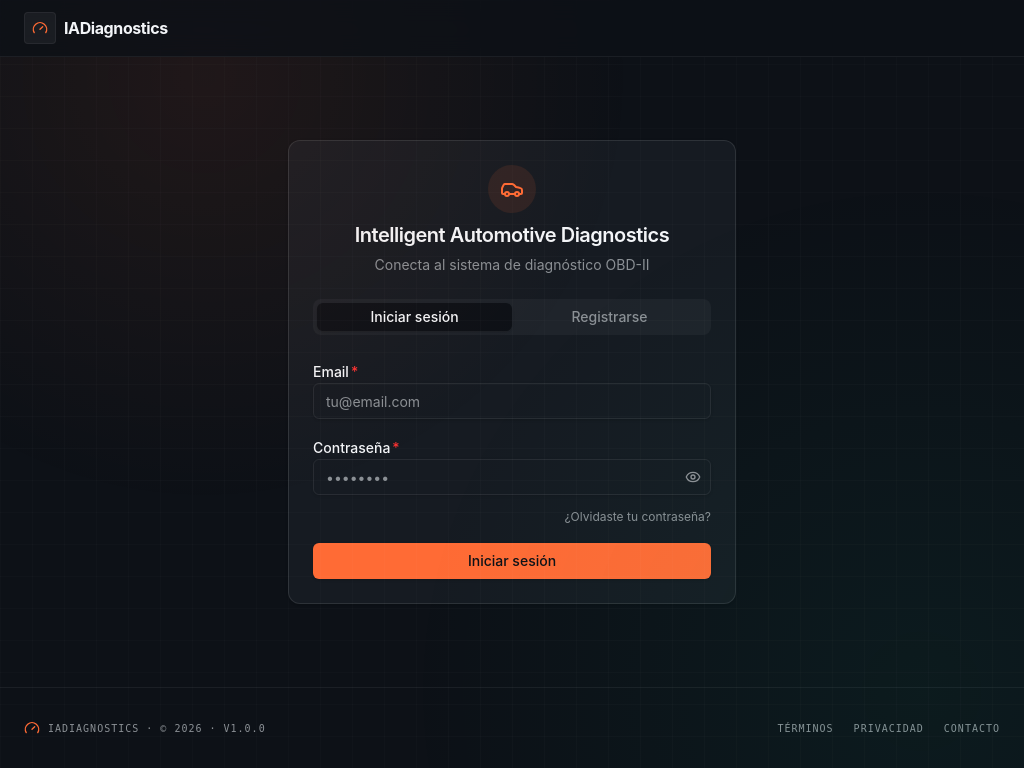
Test: AuthPage › rejects a register password missing complexity requirements
The image size is (1024, 768).
Press the mouse on the tab "Registrarse" at x=610, y=317, box x1=512 y1=303 x2=707 y2=331
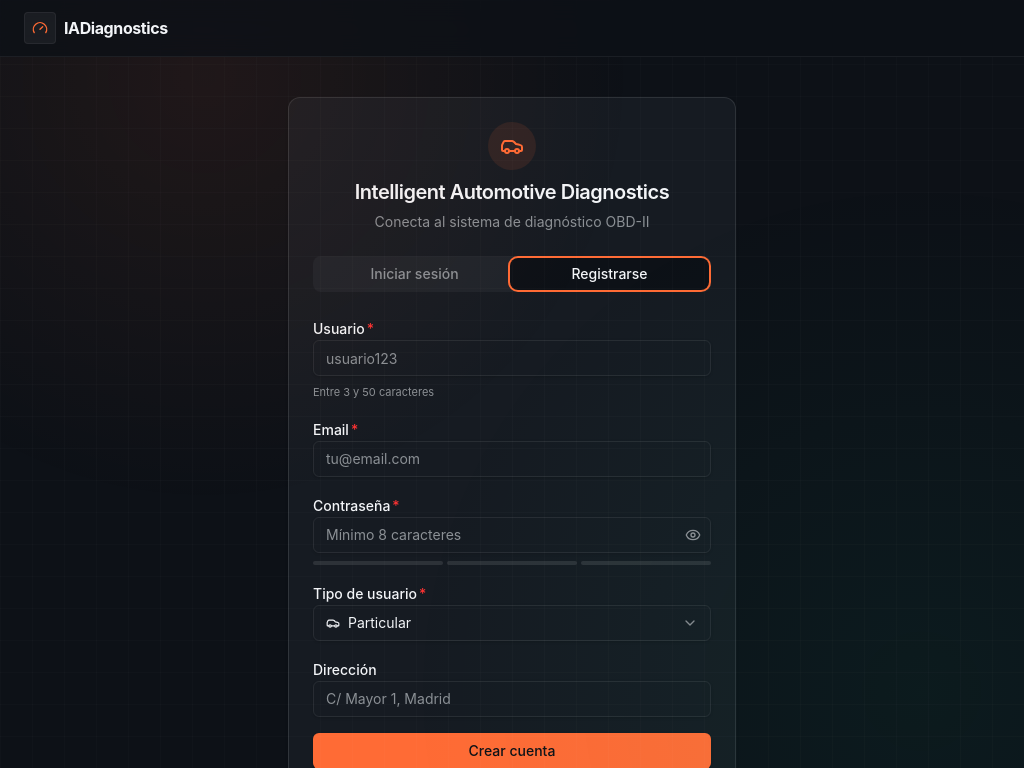
Check: the button "Crear cuenta" is shown, box x1=313 y1=732 x2=711 y2=767
Type "juan" into the field with id "reg-username" at x=512, y=358, box x1=313 y1=340 x2=711 y2=376
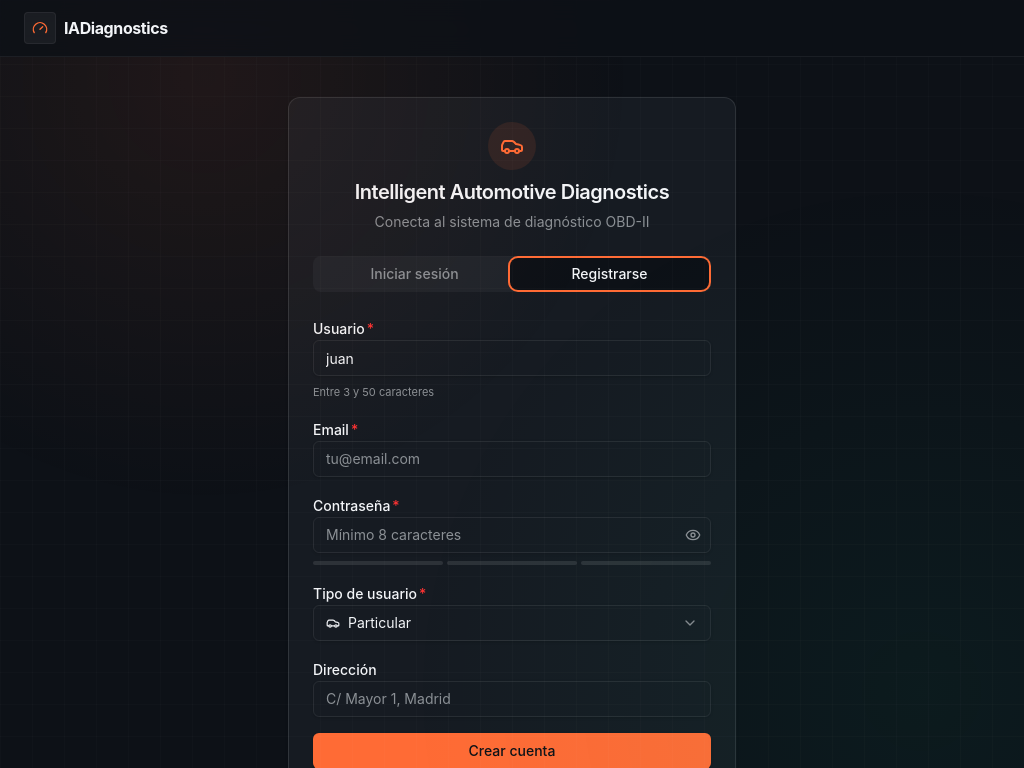
Type "j@b.com" into the field with id "reg-email" at x=512, y=458, box x1=313 y1=440 x2=711 y2=476
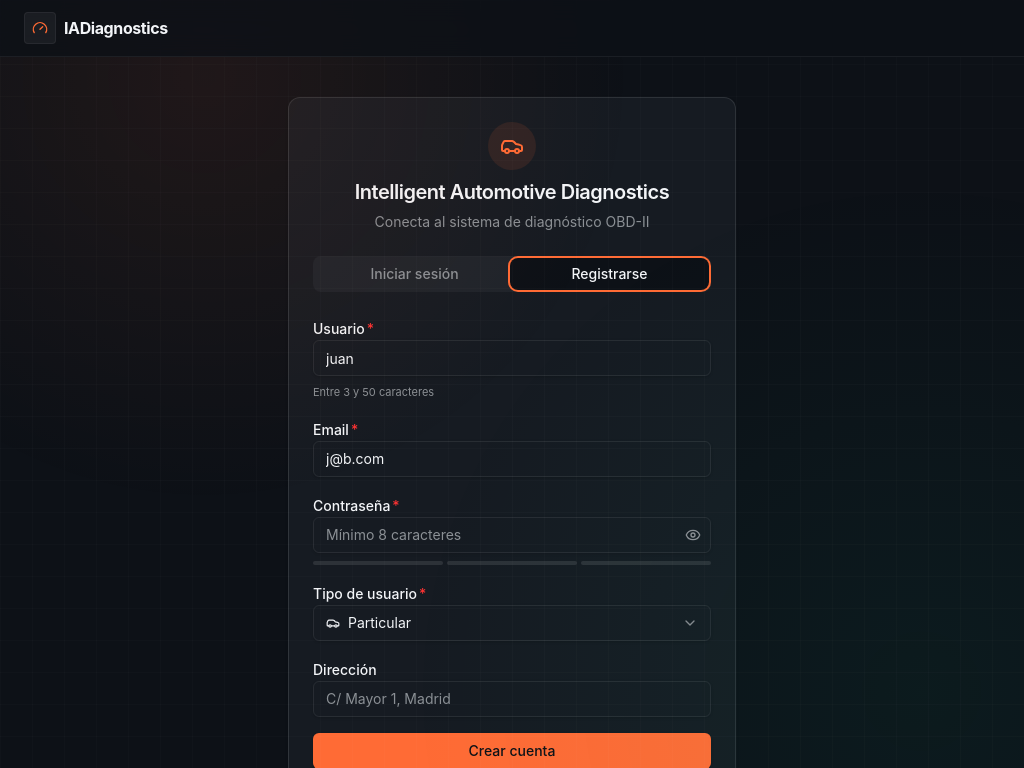
Type "password123" into the password field with id "reg-password" at x=512, y=534, box x1=313 y1=516 x2=711 y2=552
(page scrolled)
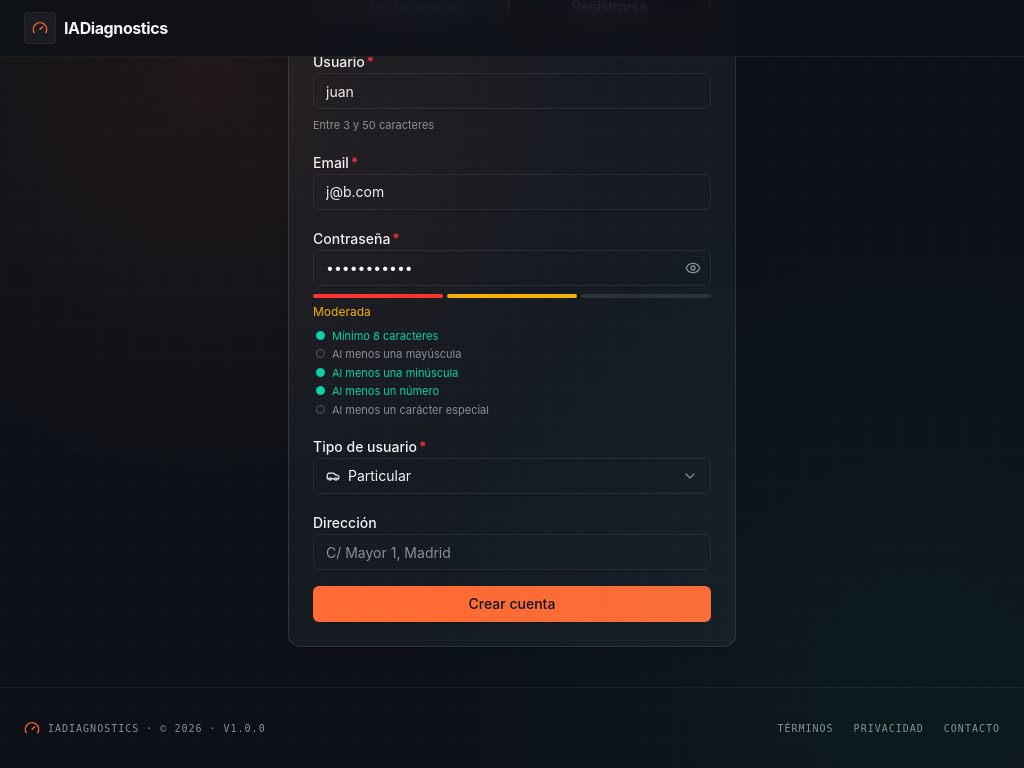
Click the button "Crear cuenta" at x=512, y=604, box x1=313 y1=586 x2=711 y2=622
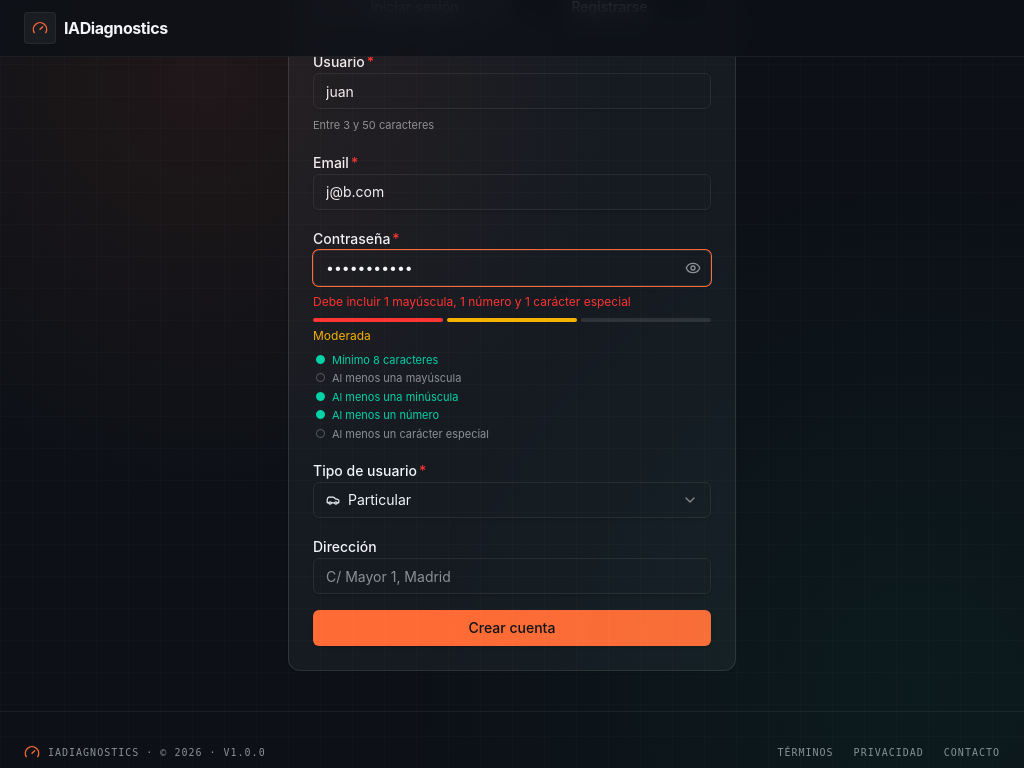
Check: the text "Debe incluir 1 mayúscula, 1 número y 1 carácter especial" is shown, box x1=313 y1=294 x2=631 y2=308
